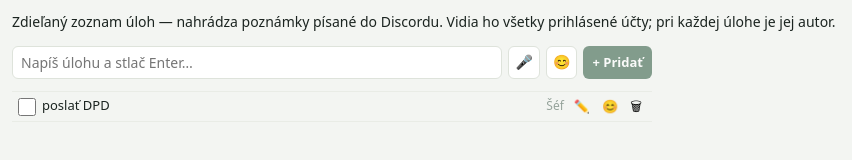
upraví text úlohy cez inline ✏️ toggle
The width and height of the screenshot is (852, 160).
Check: the element with test id "uloha-row-task-a" is shown, box [12,91,652,122]
Click the button with test id "uloha-edit-task-a" at coordinates (582, 107), box [570,96,594,117]
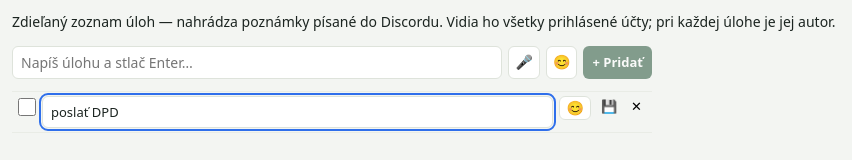
Replace the text in the field with test id "uloha-edit-input-task-a" with "poslať DPD zajtra" at coordinates (298, 112), box [42,96,553,128]
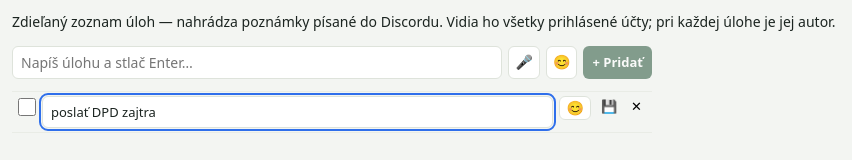
Click the button with test id "uloha-edit-save-task-a" at coordinates (609, 107), box [597,96,621,117]
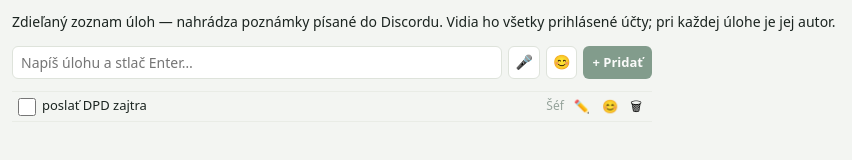
Check: the text with test id "uloha-text-task-a" reads "poslať DPD zajtra", box [42,96,147,114]
